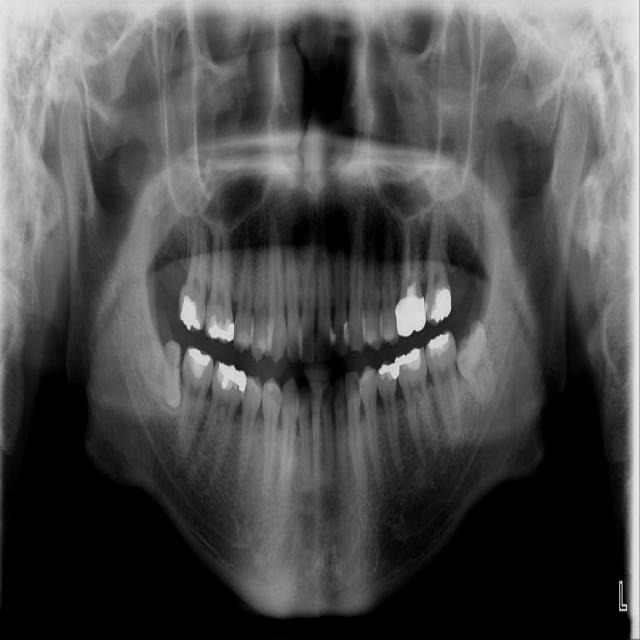Crown: (394, 294, 427, 338)
Filling: (425, 275, 452, 326), (218, 363, 247, 396), (205, 312, 235, 343), (174, 297, 201, 329), (187, 345, 210, 376), (330, 319, 351, 349), (396, 347, 421, 372), (428, 334, 454, 358), (379, 362, 396, 382)
impacted tooth: (127, 340, 182, 405), (456, 317, 493, 402)
